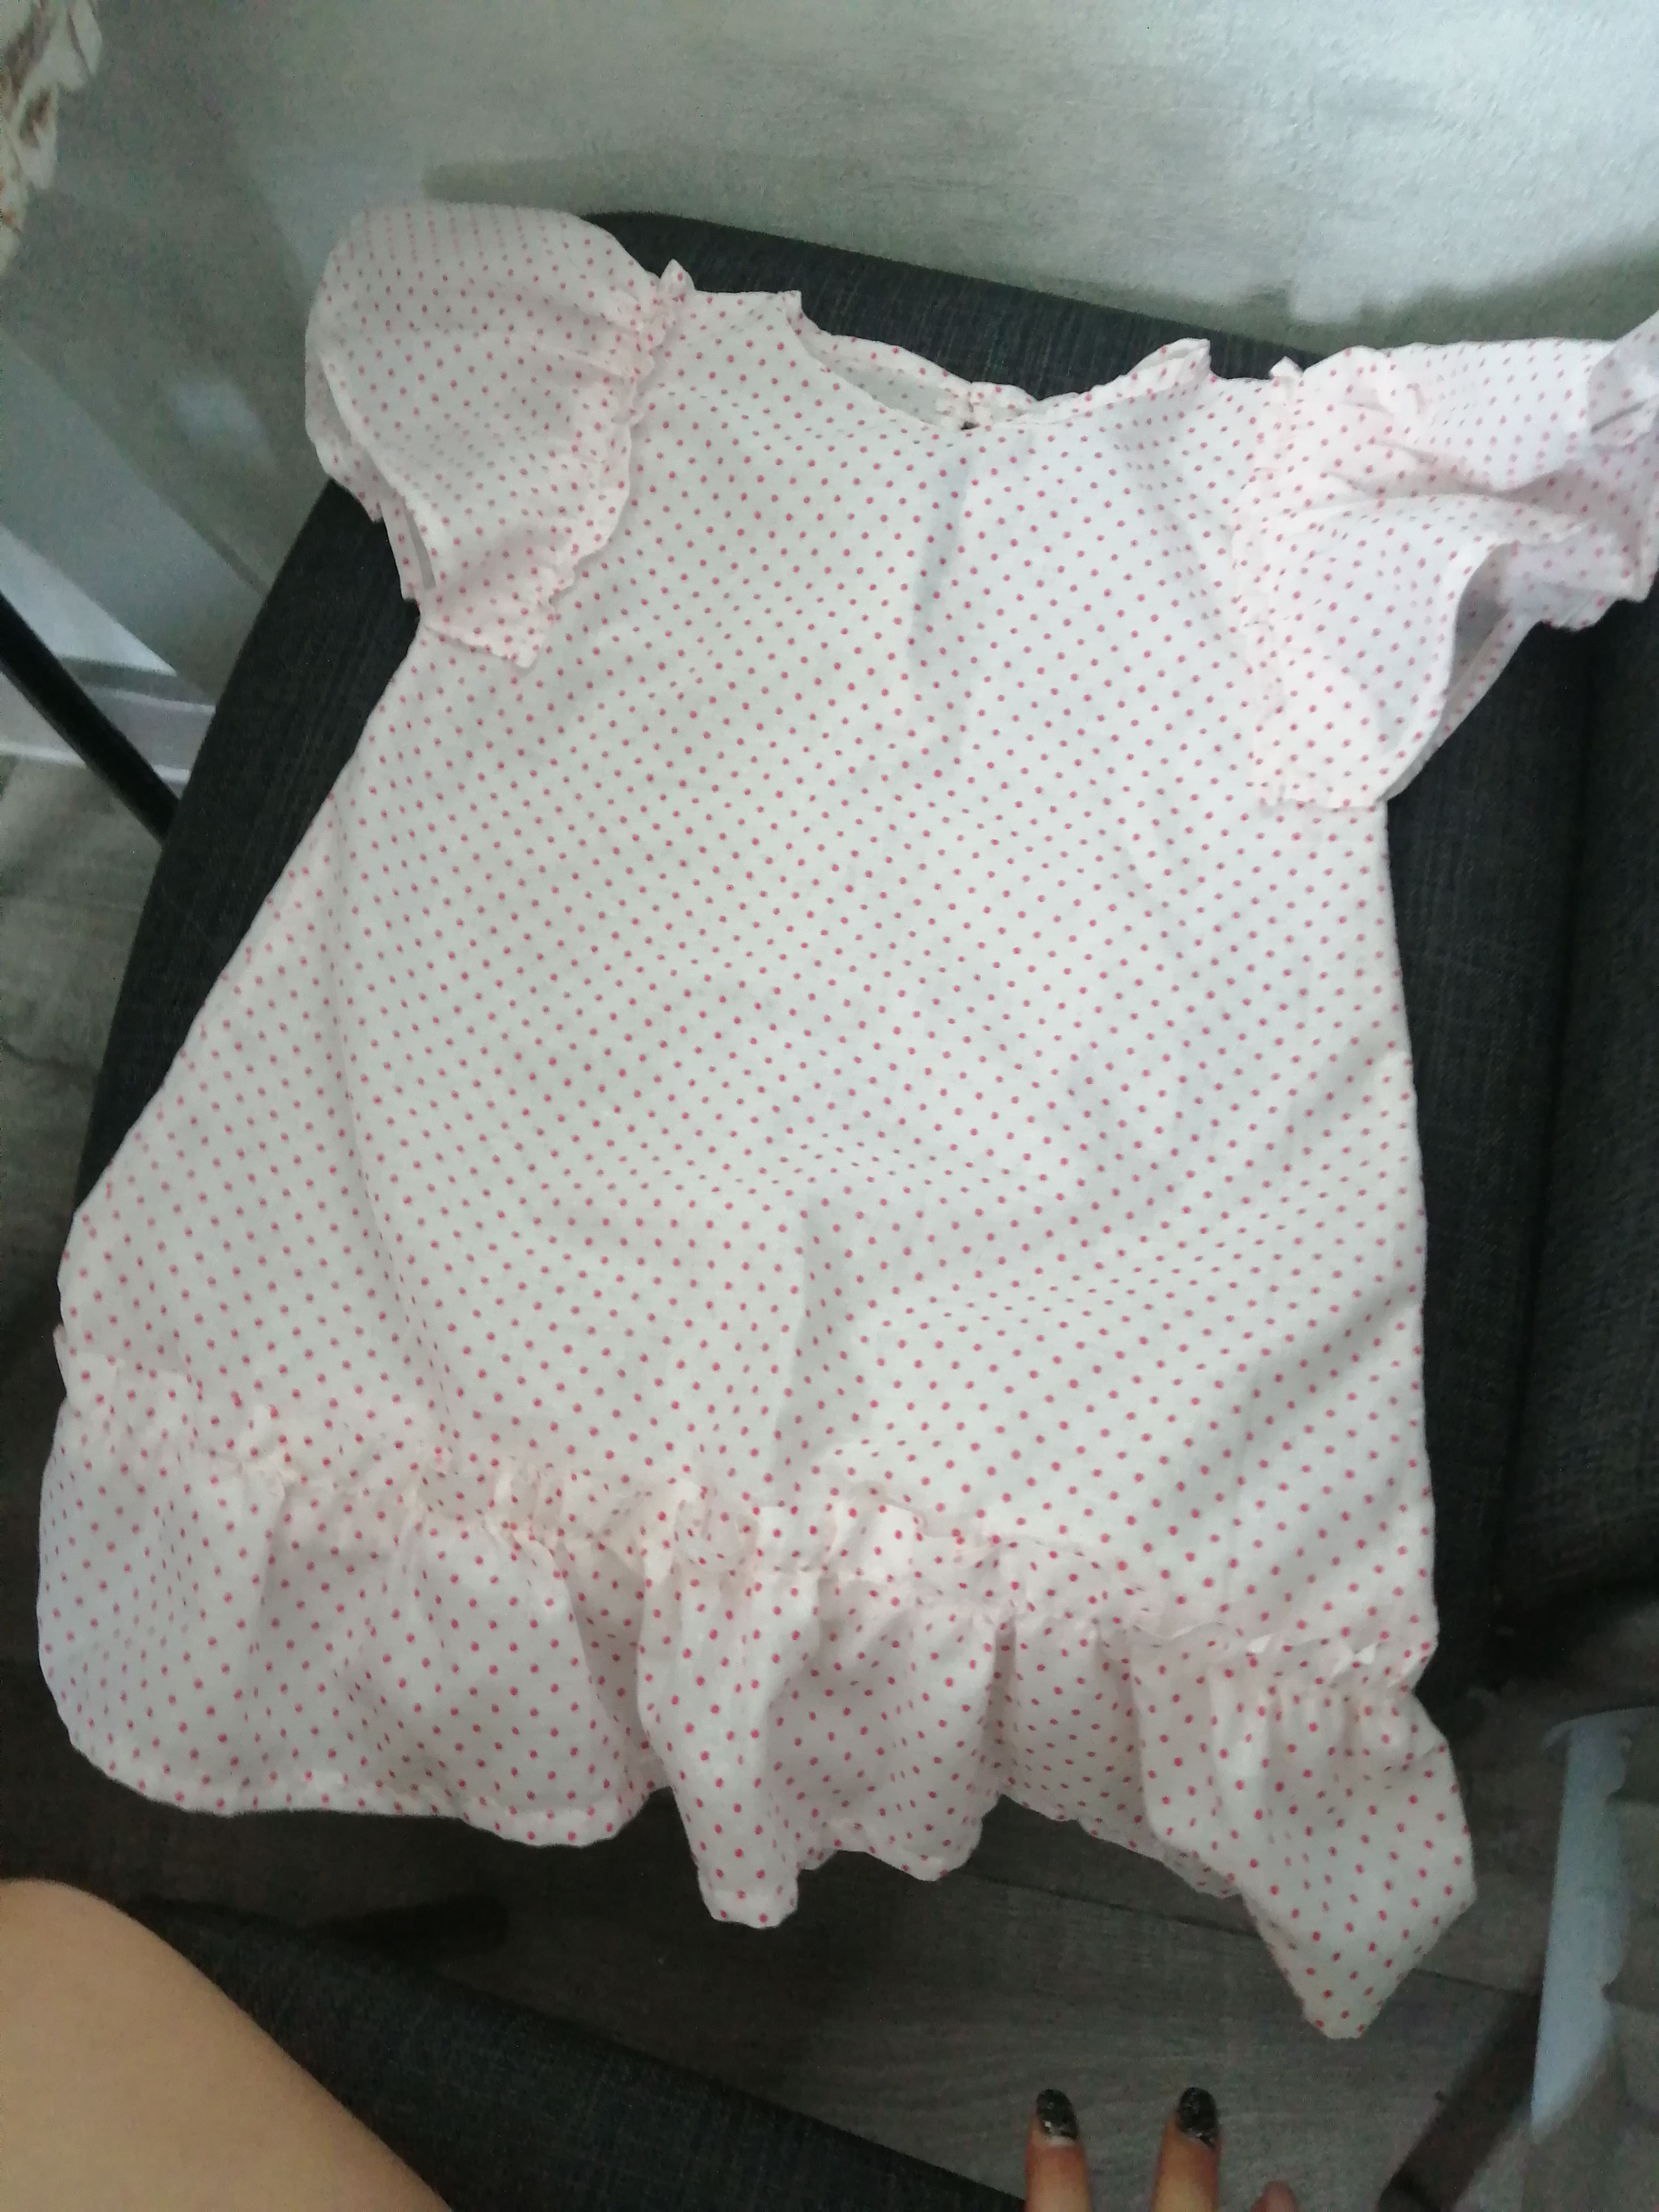clothes: (16, 197, 1549, 2043)
